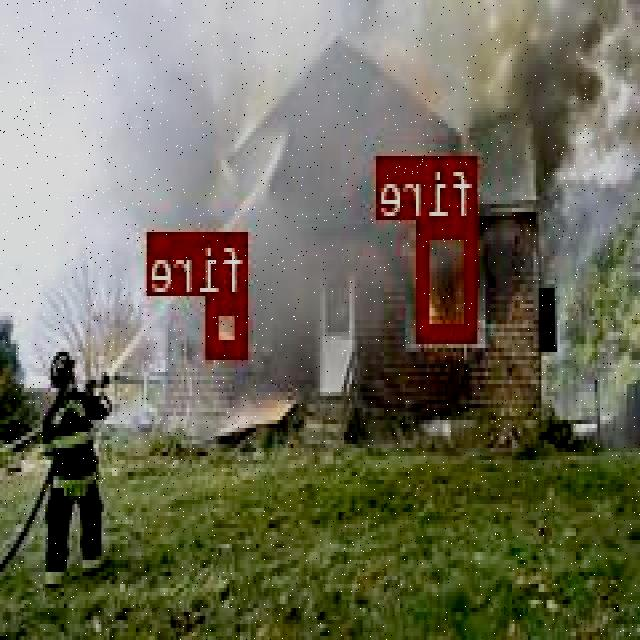fire: (421, 218, 480, 338), (210, 292, 250, 356)
